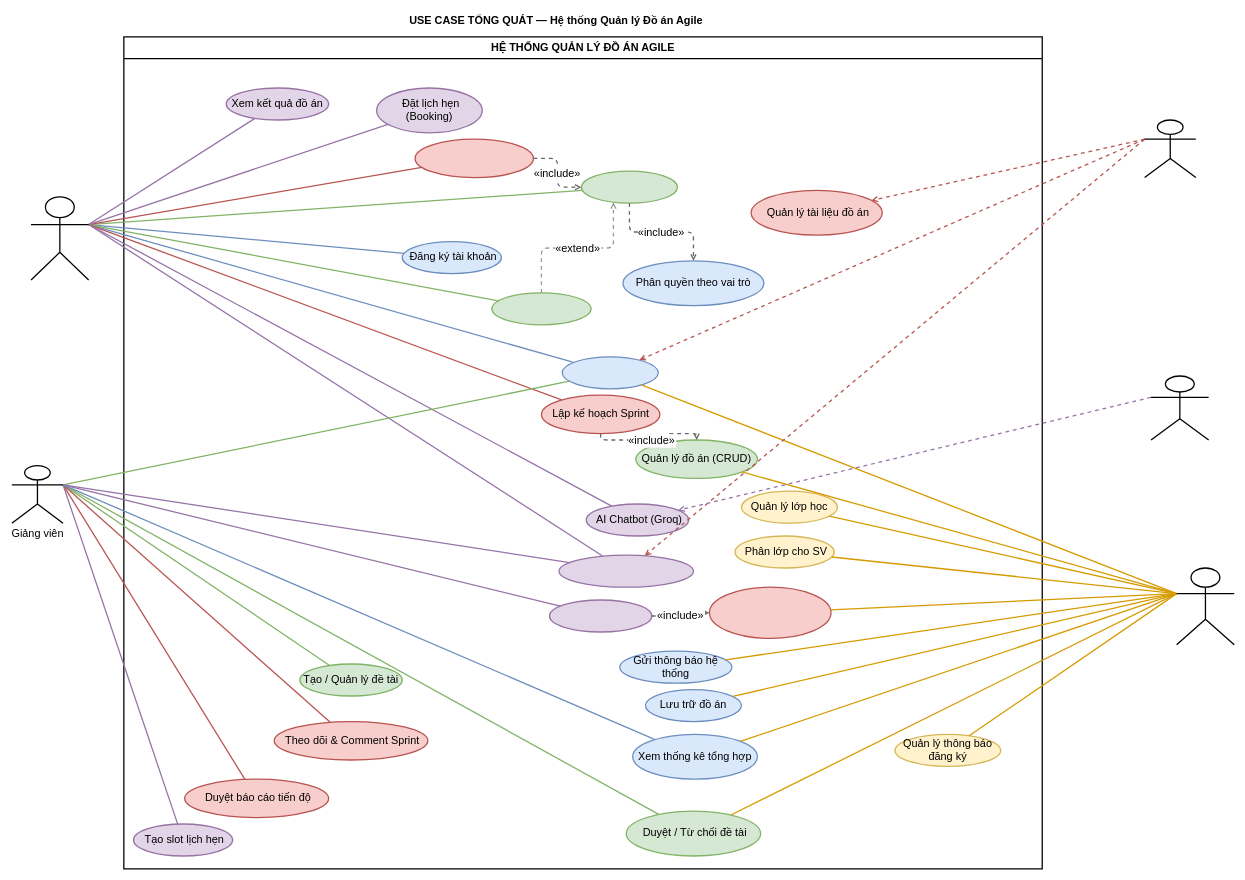
This 1245x880 diagram has some shape labels left out. The box of each missing label's shape, as (x1, y1, x2, y2) in pixels:
Admin: (1176, 567, 1235, 645)
Chat Realtime (Firebase): (558, 554, 694, 588)
Chấm điểm đồ án: (548, 599, 652, 632)
Firebase: (1144, 119, 1196, 178)
Groq AI: (1150, 375, 1209, 440)
Nộp báo cáo tiến độ: (414, 138, 534, 178)
Phân công GV Phản biện: (708, 586, 831, 639)
Sinh viên: (30, 196, 89, 280)
Đăng ký đề tài: (580, 170, 678, 204)
Đăng nhập: (561, 356, 659, 389)
Đề xuất đề tài mới: (491, 292, 591, 325)
